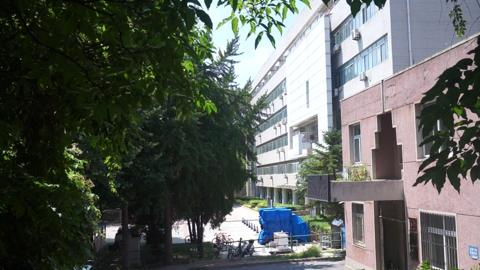UAV: (324, 12, 334, 18)
